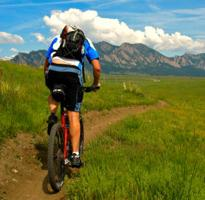person: (43, 23, 102, 168)
